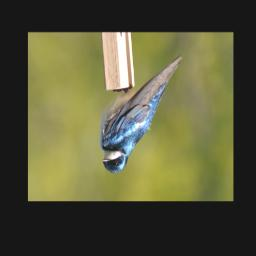Swallow: (98, 53, 183, 176)
